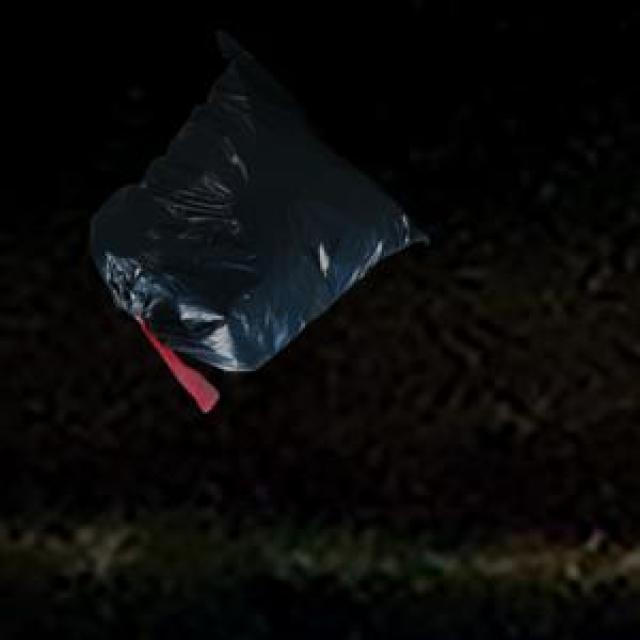Vinyl: (91, 35, 414, 411)
